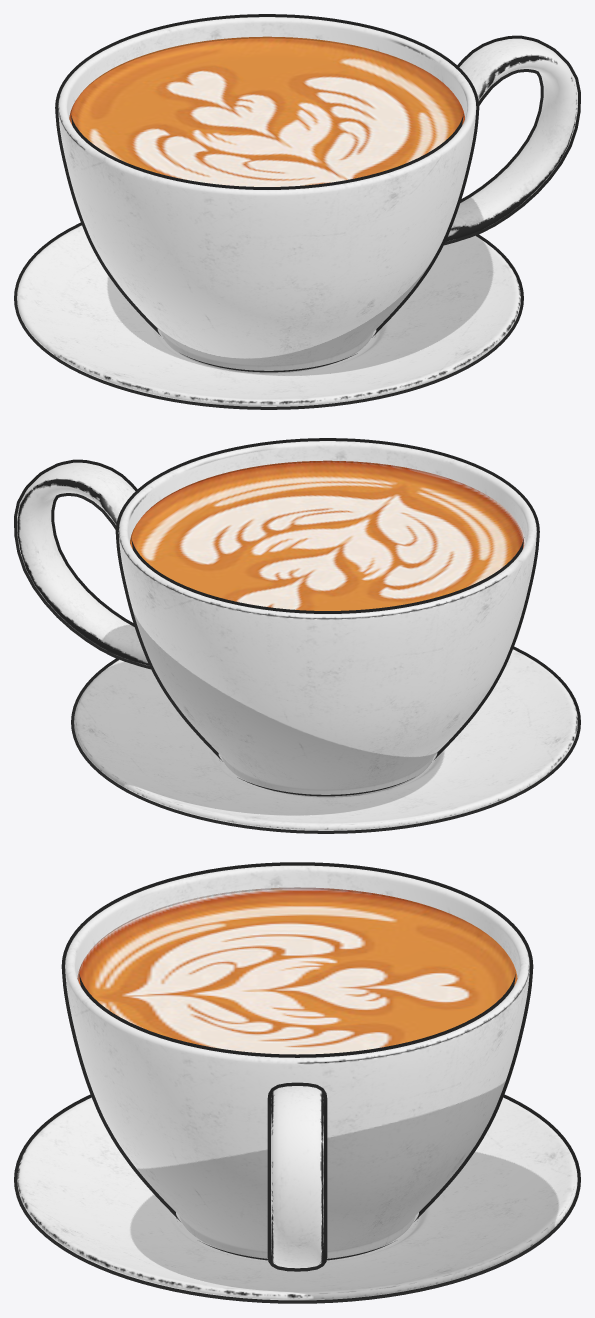
3 renders of one model, top to bottom at view 1: azimuth 30°, elevation 25°; view 2: azimuth 150°, elevation 25°; view 3: azimuth 270°, elevation 25°, orthographic. The views are drawn at different scales.
Visible parts, largest first — view 1: mugwithsaucer03; view 2: mugwithsaucer03; view 3: mugwithsaucer03.
Part boxes in pixels (bbox=[...]): mugwithsaucer03: bbox=[14, 14, 580, 409]; mugwithsaucer03: bbox=[14, 438, 580, 833]; mugwithsaucer03: bbox=[14, 862, 580, 1303].
Bounding box in the file's own units: 15.3 × 6.93 × 12.85.
Materials: 3 (3 with a texture image).
